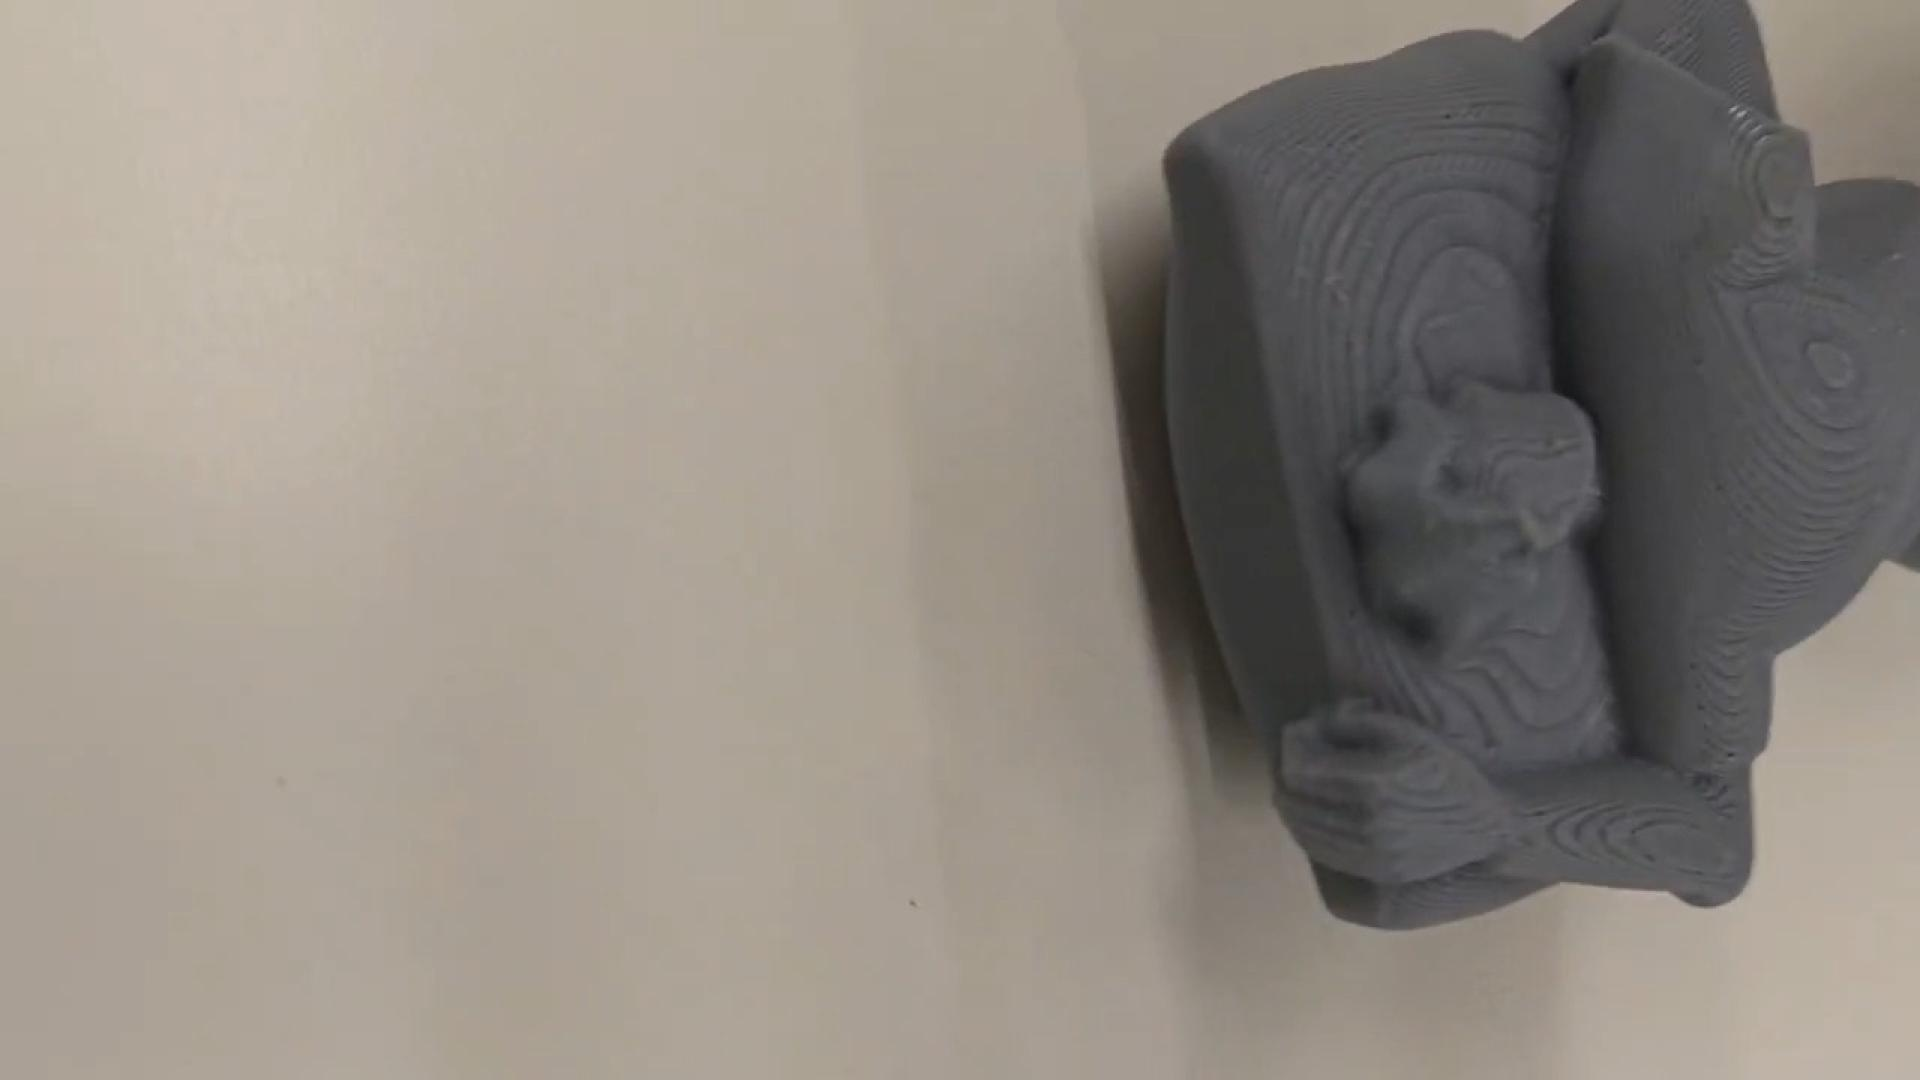Bad-style: (1159, 0, 1920, 951)
